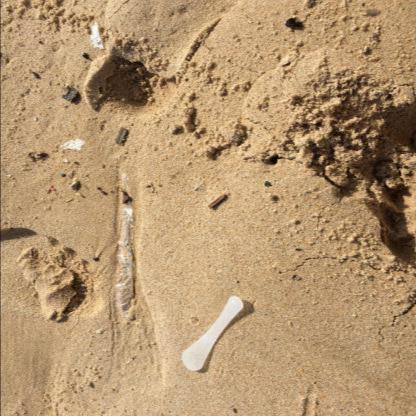Other plastic: (181, 296, 243, 371)
Plastic bag - wrapper: (116, 174, 133, 319), (90, 21, 104, 50), (60, 138, 84, 151)
Unlabeled litter: (63, 159, 68, 163), (49, 187, 55, 190)
